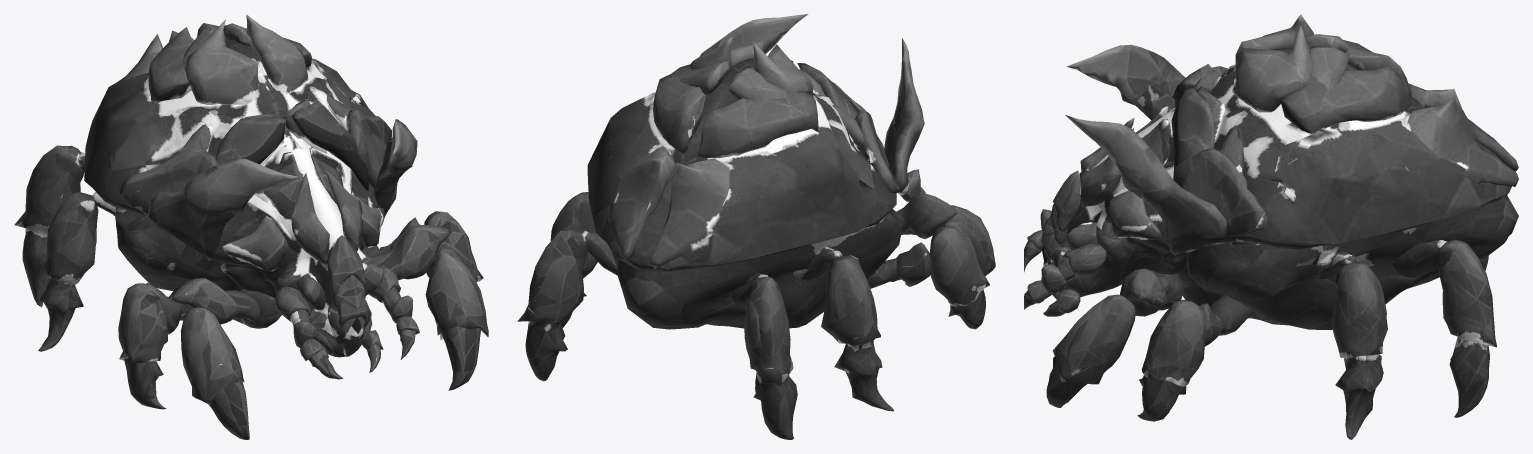
File: brute.glb
The picture shows the model from 3 angles, left to right: view 1: azimuth 30°, elevation 25°; view 2: azimuth 150°, elevation 25°; view 3: azimuth 270°, elevation 25°; orthographic projection. The views are drawn at different scales.
Bounding box in the file's own units: 0.8746 × 0.7505 × 1.
Materials: 1 (1 with a texture image).
